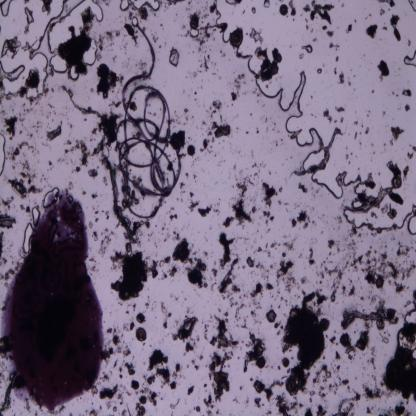Air bubble: (44, 0, 104, 52), (345, 204, 416, 238), (272, 69, 309, 127), (0, 62, 26, 86), (82, 39, 97, 69), (48, 54, 68, 73), (42, 188, 60, 209), (130, 0, 161, 12), (24, 223, 35, 253), (0, 133, 7, 177), (0, 0, 13, 18), (68, 65, 80, 81), (31, 207, 40, 226), (24, 6, 34, 23), (188, 27, 199, 39), (406, 0, 416, 10), (131, 17, 139, 25), (317, 68, 322, 75)
Background material: (282, 292, 324, 392), (110, 244, 149, 301), (382, 344, 416, 400), (208, 353, 231, 401), (209, 312, 238, 350), (242, 332, 267, 374), (359, 250, 389, 284), (217, 257, 242, 294), (148, 350, 171, 388), (340, 239, 364, 273), (274, 258, 298, 291), (172, 314, 199, 342), (254, 378, 284, 402), (188, 256, 208, 289), (239, 158, 266, 182), (386, 260, 416, 281), (333, 393, 361, 415), (254, 48, 272, 82), (7, 176, 41, 194), (218, 233, 235, 269), (328, 264, 344, 302), (94, 72, 118, 97), (171, 238, 193, 265), (99, 111, 117, 144), (309, 1, 334, 24), (234, 198, 253, 226), (231, 72, 247, 104), (338, 332, 356, 360), (276, 394, 301, 414), (191, 53, 211, 77), (386, 160, 402, 189), (98, 30, 120, 51), (74, 139, 90, 167), (210, 121, 232, 141), (18, 160, 36, 184), (0, 256, 20, 277), (290, 208, 310, 229), (314, 363, 333, 385), (332, 370, 351, 392), (2, 114, 18, 140), (354, 328, 371, 352), (261, 182, 276, 209), (122, 24, 140, 46), (2, 36, 20, 58), (20, 96, 43, 113), (158, 303, 173, 329), (362, 382, 382, 401), (11, 141, 29, 162), (401, 320, 416, 345), (119, 383, 132, 410), (100, 383, 119, 401), (367, 293, 386, 311), (377, 404, 411, 414), (171, 130, 186, 152), (200, 23, 213, 48), (255, 262, 272, 281), (316, 259, 328, 285), (391, 15, 402, 43), (106, 328, 121, 348), (376, 60, 390, 81), (380, 204, 398, 220), (256, 242, 278, 255), (27, 68, 40, 90), (249, 28, 264, 47), (0, 193, 15, 212), (220, 295, 240, 309), (306, 244, 318, 267), (46, 125, 62, 142), (85, 401, 103, 416), (169, 394, 183, 413), (31, 116, 47, 132), (390, 124, 405, 141), (366, 346, 376, 371), (261, 208, 275, 225), (395, 244, 412, 258), (169, 47, 180, 68), (99, 237, 111, 256), (99, 344, 111, 362), (367, 23, 379, 41), (250, 282, 264, 297), (236, 182, 250, 197), (282, 238, 298, 251), (388, 192, 404, 205), (27, 138, 37, 158), (322, 108, 333, 126), (188, 199, 202, 213), (233, 304, 246, 319), (200, 139, 212, 155), (188, 13, 200, 29), (147, 388, 158, 405), (251, 310, 262, 327), (394, 281, 407, 295), (222, 215, 235, 229), (296, 180, 309, 194), (327, 333, 341, 346), (250, 296, 264, 309), (135, 402, 148, 416), (203, 394, 215, 409), (137, 60, 149, 75), (272, 320, 284, 335), (124, 362, 136, 377), (149, 260, 159, 277), (90, 256, 98, 277), (136, 311, 148, 325), (406, 144, 416, 160), (316, 403, 328, 416), (215, 22, 228, 34), (184, 341, 196, 354), (335, 212, 344, 229), (20, 115, 28, 134), (377, 0, 396, 8), (288, 0, 296, 19), (171, 228, 181, 243), (106, 98, 121, 108), (118, 0, 130, 12), (18, 86, 29, 99), (159, 256, 172, 267), (326, 237, 336, 251), (198, 208, 212, 218), (162, 232, 172, 246), (190, 358, 200, 372), (124, 240, 133, 255), (63, 142, 74, 154), (401, 86, 412, 98), (210, 101, 222, 112), (347, 225, 357, 238), (139, 7, 149, 20), (267, 311, 277, 324), (172, 365, 181, 379), (245, 255, 254, 269), (168, 266, 178, 278), (334, 104, 346, 114), (265, 282, 275, 294), (102, 370, 112, 382), (89, 167, 99, 179), (225, 0, 242, 7), (254, 396, 262, 410), (338, 70, 346, 84), (47, 158, 55, 172), (167, 0, 183, 7), (344, 23, 354, 34), (128, 101, 138, 112), (401, 166, 409, 179), (116, 367, 124, 380), (202, 323, 208, 340), (213, 204, 223, 214), (186, 385, 195, 396), (334, 352, 343, 363), (103, 173, 110, 187), (160, 267, 168, 279), (348, 284, 356, 296), (296, 50, 304, 62), (304, 406, 313, 416), (218, 47, 227, 57), (122, 348, 132, 357), (4, 95, 14, 104), (209, 3, 217, 14), (169, 380, 176, 392), (303, 3, 311, 13), (326, 32, 336, 40), (90, 190, 98, 200), (329, 43, 340, 50), (91, 231, 98, 242), (110, 405, 118, 414), (87, 221, 95, 230), (67, 180, 75, 189), (210, 269, 218, 278), (203, 246, 209, 258), (346, 153, 352, 165), (300, 275, 308, 284), (320, 24, 330, 31), (129, 321, 136, 331), (168, 213, 178, 220), (304, 19, 310, 30), (263, 0, 271, 8), (150, 35, 158, 43), (382, 336, 390, 344), (378, 7, 386, 15), (404, 104, 411, 113), (353, 132, 359, 142), (192, 170, 198, 180), (44, 88, 51, 96), (112, 360, 119, 368), (254, 89, 260, 98), (255, 124, 260, 134), (236, 384, 243, 391), (183, 108, 190, 115), (184, 31, 190, 39), (382, 22, 388, 30), (202, 383, 208, 391), (408, 35, 412, 47), (94, 216, 100, 224), (335, 54, 340, 63), (105, 210, 109, 221), (195, 406, 201, 413), (364, 128, 370, 135), (280, 252, 287, 258), (190, 191, 196, 198), (242, 323, 248, 330), (146, 301, 151, 309), (252, 6, 257, 14), (130, 11, 134, 21), (354, 118, 359, 126), (180, 182, 184, 191), (94, 210, 100, 216), (28, 134, 36, 138), (277, 364, 281, 372), (382, 110, 386, 118), (92, 128, 96, 136), (133, 302, 136, 312), (334, 66, 337, 76), (274, 141, 279, 147), (312, 37, 317, 43), (207, 130, 212, 136), (244, 130, 250, 135), (76, 166, 80, 173), (125, 309, 130, 314), (188, 1, 192, 7), (242, 8, 246, 14), (372, 86, 375, 94), (184, 171, 188, 177), (220, 114, 223, 122), (193, 90, 197, 95), (82, 190, 87, 194), (203, 121, 207, 126), (249, 377, 253, 382), (380, 172, 382, 178)
Cellulose filter fibre: (98, 149, 148, 237), (292, 127, 341, 177), (61, 86, 102, 118), (346, 186, 393, 212), (342, 312, 400, 327)
Diatom: (403, 48, 416, 68), (0, 215, 16, 229), (230, 31, 244, 46), (135, 327, 147, 342), (98, 65, 110, 80), (319, 318, 330, 333), (289, 128, 303, 139), (186, 144, 196, 157), (279, 4, 289, 16), (257, 356, 266, 369), (302, 44, 313, 54), (139, 394, 148, 406), (130, 380, 140, 390), (270, 63, 279, 74), (376, 277, 384, 289), (114, 282, 122, 293), (282, 357, 290, 368), (275, 54, 282, 63)
Microfibre: (116, 24, 182, 220)
Pen: (2, 190, 102, 408)
